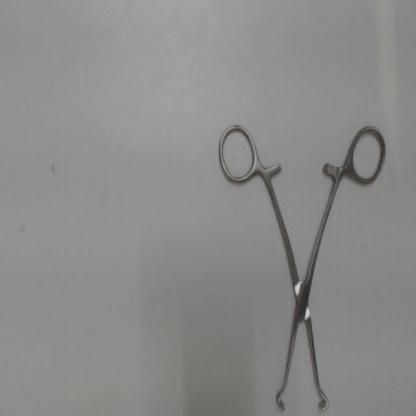Babcock Tissue Forceps: (212, 117, 390, 415)
